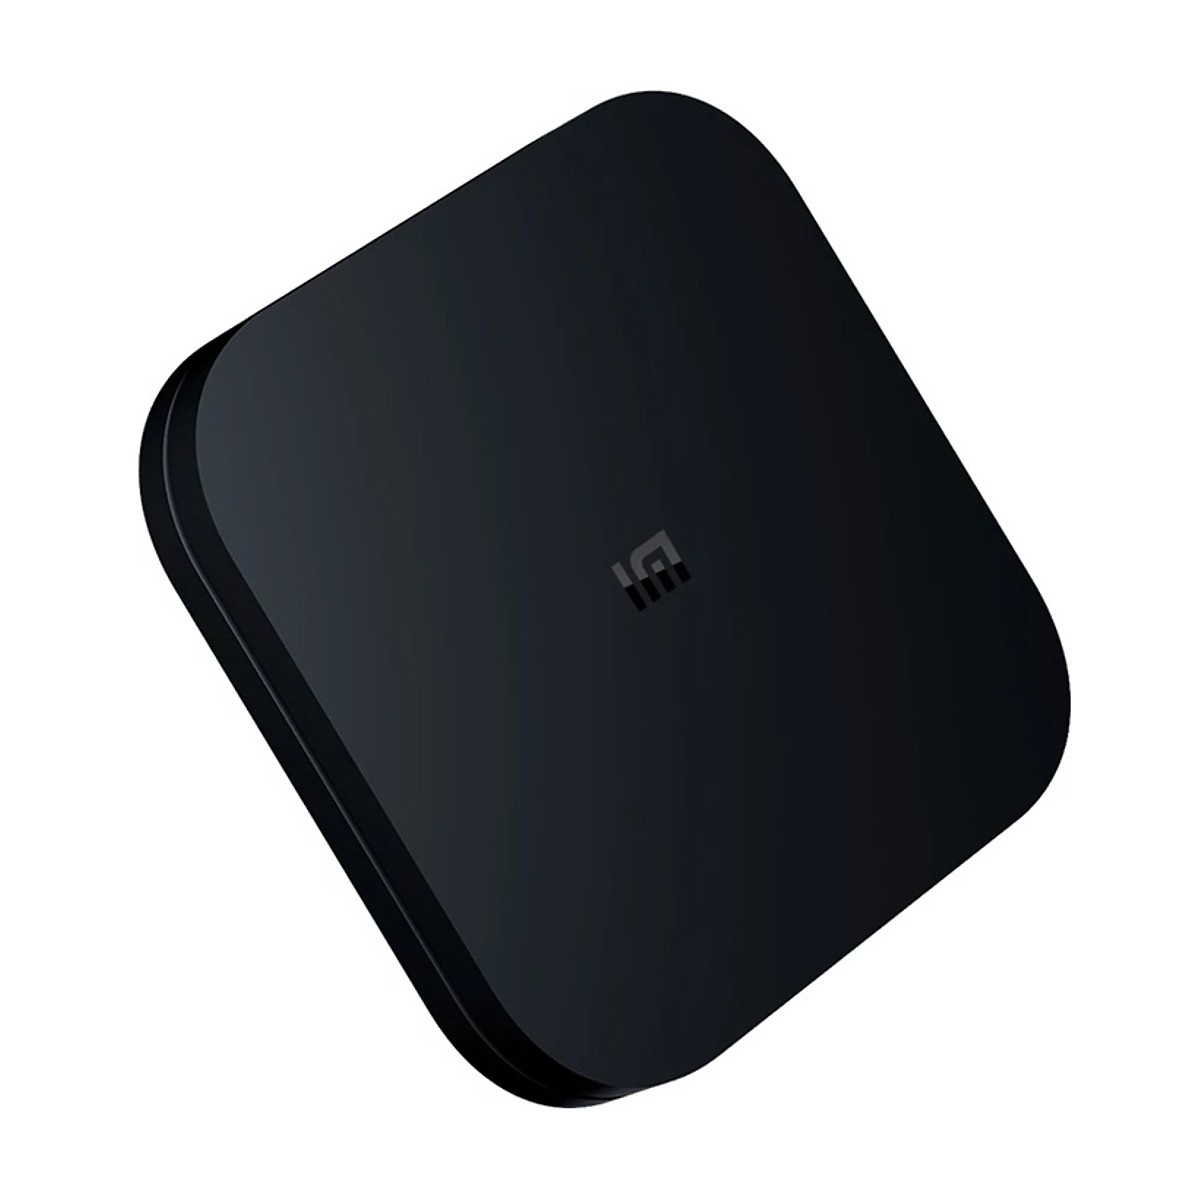Xiaomi: (559, 500, 768, 702)
